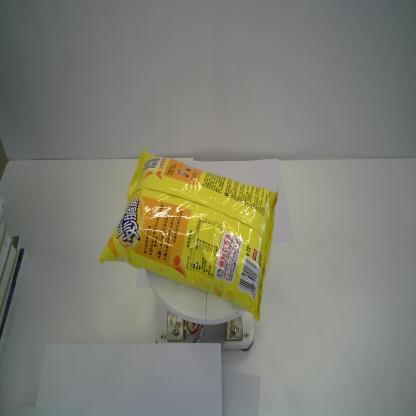Puffed Food: (98, 146, 280, 324)
